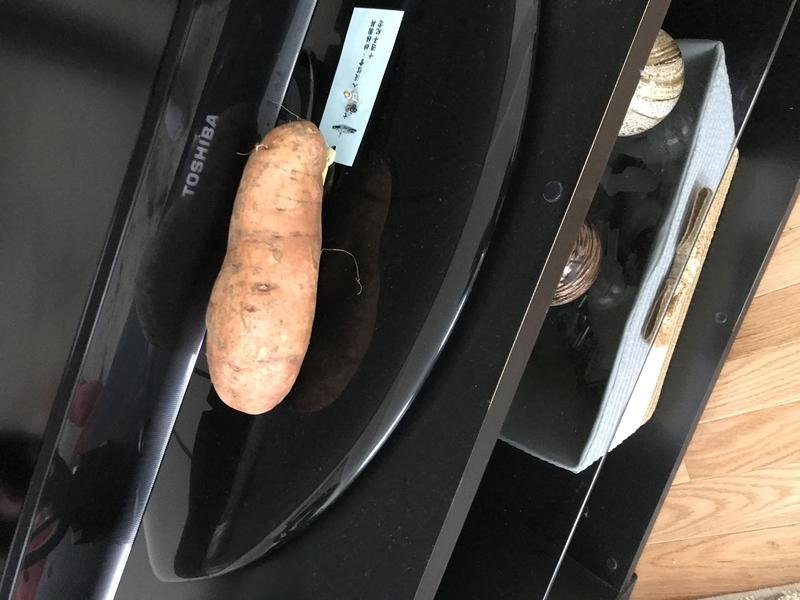sweet_potato: (196, 109, 338, 430)
